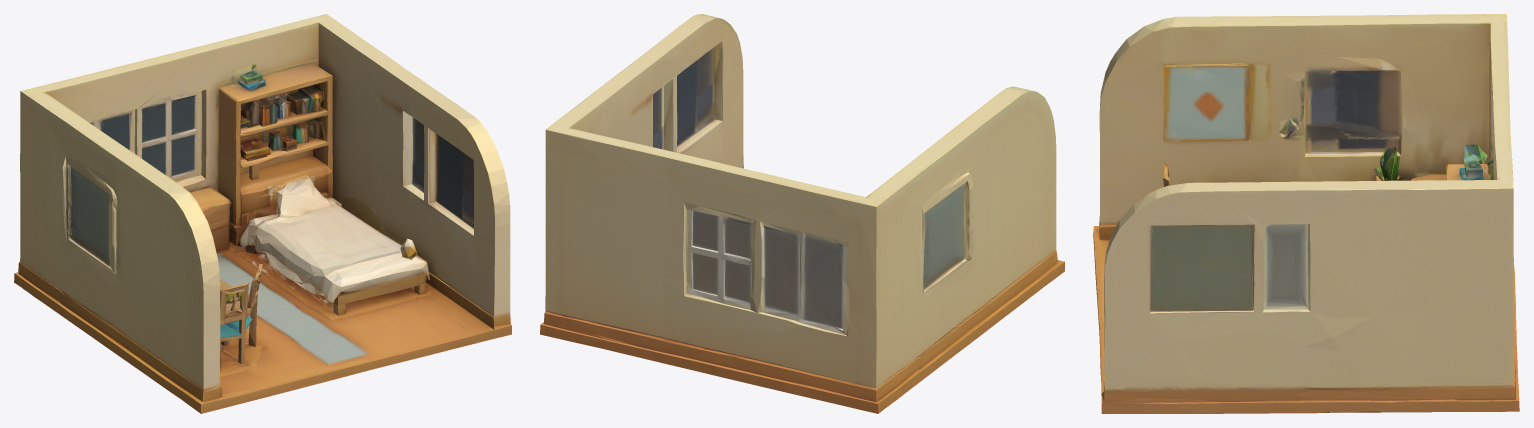
Rendered from Meshy_AI_Stylized_low_poly_int_0110124609_texture.fbx.
3 views of the same model, side by side, from view 1: azimuth 30°, elevation 25°; view 2: azimuth 150°, elevation 25°; view 3: azimuth 270°, elevation 25° (orthographic). The views are drawn at different scales.
Parts seen in each view (by area): view 1: temp; view 2: temp; view 3: temp.
Part boxes in pixels (x1,y1,x2,y2): temp: (14,14,511,413); temp: (540,14,1064,413); temp: (1093,14,1519,413).
Bounding box in the file's own units: 200 × 115 × 200.
Materials: 1 (1 with a texture image).
